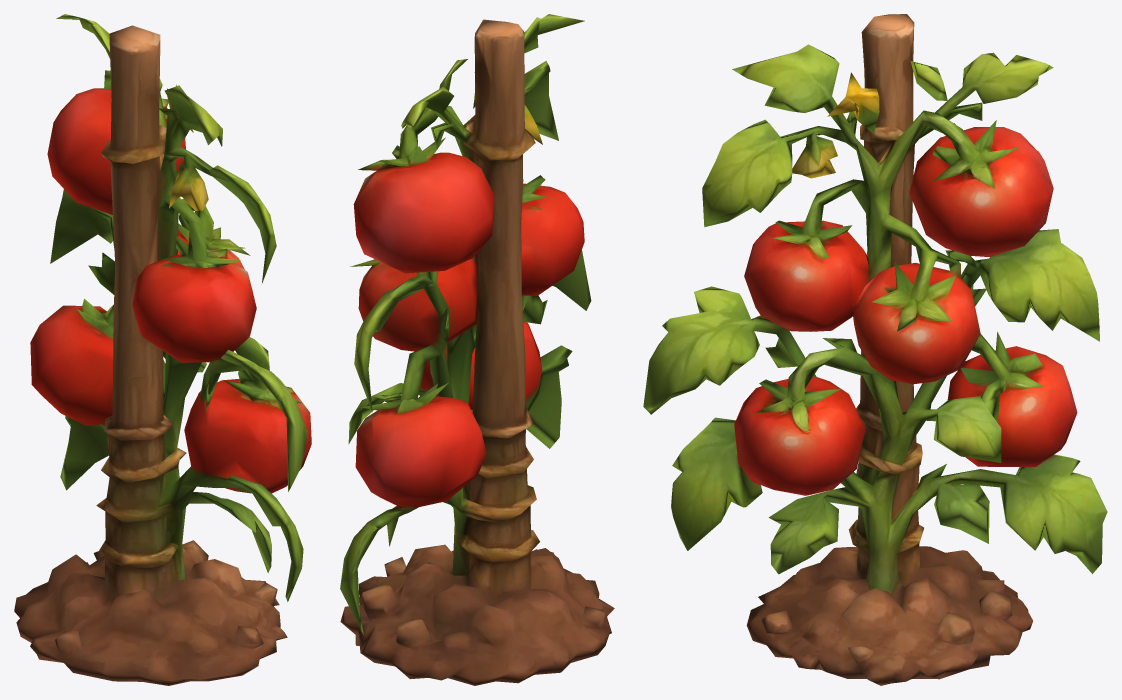
File: tomates-mures.glb
3 views of the same model, side by side, from view 1: azimuth 30°, elevation 25°; view 2: azimuth 150°, elevation 25°; view 3: azimuth 270°, elevation 25° (orthographic).
Visible parts, largest first — view 1: tripo_node_c6886d7c-c28c-4cda-ba39-7dc18a723ade; view 2: tripo_node_c6886d7c-c28c-4cda-ba39-7dc18a723ade; view 3: tripo_node_c6886d7c-c28c-4cda-ba39-7dc18a723ade.
Part boxes in pixels (<box>): tripo_node_c6886d7c-c28c-4cda-ba39-7dc18a723ade: <box>14,14,311,685</box>; tripo_node_c6886d7c-c28c-4cda-ba39-7dc18a723ade: <box>340,14,614,685</box>; tripo_node_c6886d7c-c28c-4cda-ba39-7dc18a723ade: <box>643,14,1107,685</box>.
Bounding box in the file's own units: 0.4145 × 1 × 0.703.
1 material, 1 textured.
